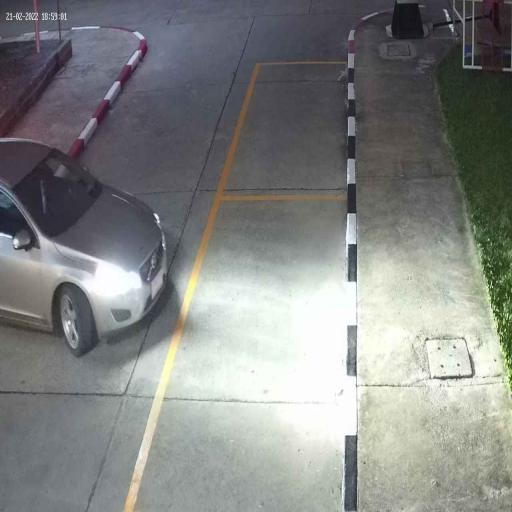car: (0, 138, 168, 355)
